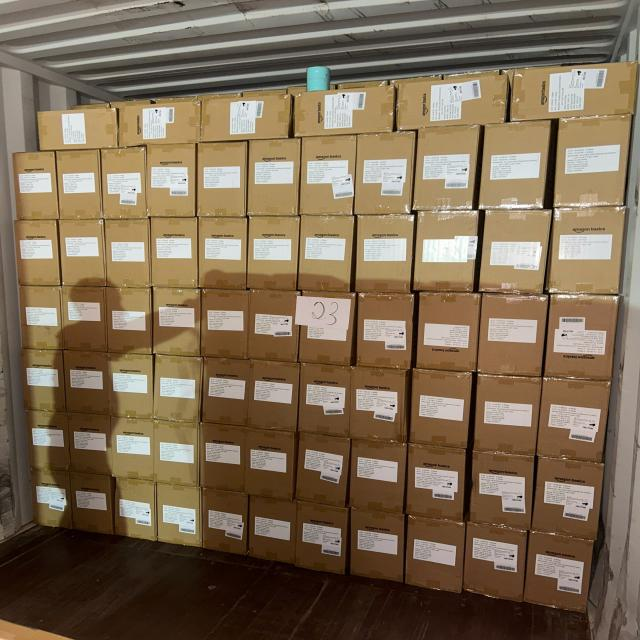Carton: (511, 61, 637, 119), (554, 119, 629, 211), (550, 205, 626, 293), (546, 293, 617, 382), (482, 121, 550, 212), (540, 377, 610, 462), (400, 72, 509, 126), (481, 208, 549, 293), (415, 126, 479, 212), (534, 459, 601, 541), (480, 292, 547, 374), (528, 532, 594, 612), (415, 210, 479, 292), (476, 375, 540, 457), (470, 453, 532, 533), (296, 86, 395, 136), (416, 291, 477, 371), (356, 132, 414, 215), (412, 367, 472, 447), (467, 526, 527, 604), (202, 92, 292, 143), (406, 443, 464, 521), (407, 519, 465, 597), (356, 214, 412, 294), (302, 137, 357, 218), (356, 292, 413, 369), (348, 508, 404, 584), (299, 294, 356, 368), (351, 368, 407, 443), (350, 442, 406, 516), (298, 218, 351, 296), (250, 140, 302, 218), (250, 215, 300, 291), (295, 503, 345, 579), (299, 434, 350, 508), (298, 364, 348, 439), (118, 100, 199, 146), (197, 143, 246, 219), (146, 145, 195, 219), (250, 358, 299, 432), (248, 428, 297, 502), (198, 219, 246, 293), (37, 107, 117, 151), (250, 291, 298, 364), (150, 216, 197, 289), (200, 290, 248, 361), (156, 288, 203, 358), (106, 220, 152, 291), (156, 357, 204, 425), (108, 288, 154, 358), (58, 220, 105, 288), (13, 220, 60, 288), (250, 498, 296, 567), (58, 152, 103, 222), (13, 150, 58, 220), (105, 149, 148, 222), (202, 361, 248, 428), (202, 491, 247, 559), (199, 426, 244, 494), (64, 349, 110, 415), (62, 284, 107, 351), (110, 353, 156, 418), (159, 488, 205, 552), (21, 348, 67, 412), (20, 284, 64, 350), (158, 424, 202, 488), (113, 417, 157, 480), (116, 476, 158, 542), (68, 410, 111, 474), (71, 474, 113, 537), (30, 408, 72, 470), (32, 471, 74, 532)
